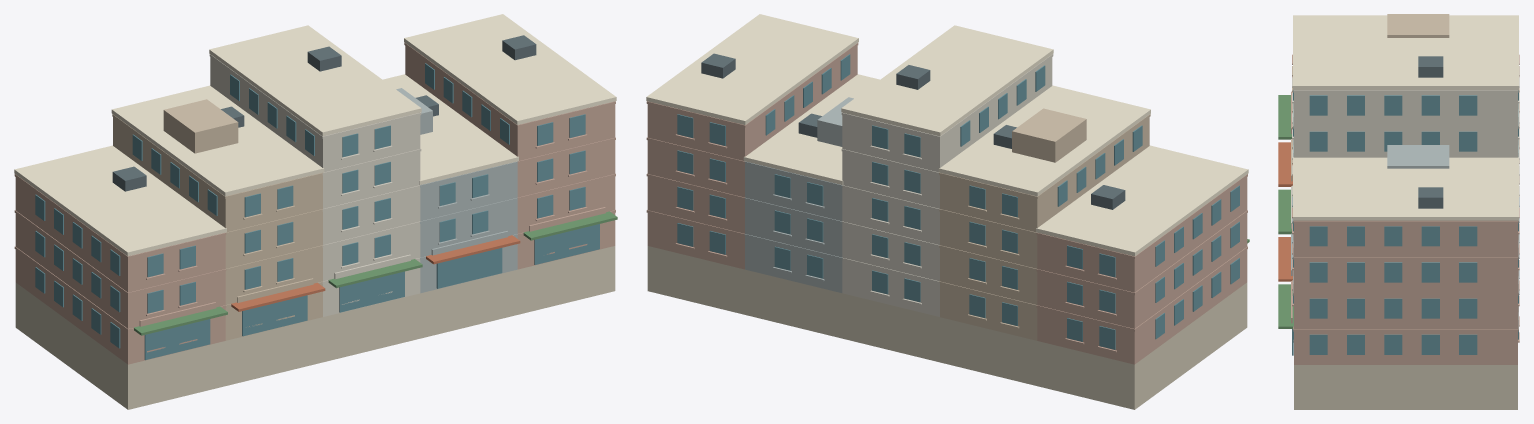
The model's file is streetwall-3.glb.
3 views of the same model, side by side, from view 1: azimuth 30°, elevation 25°; view 2: azimuth 150°, elevation 25°; view 3: azimuth 270°, elevation 25° (orthographic).
Bounding box in the file's own units: 45.16 × 21.3 × 19.39.
